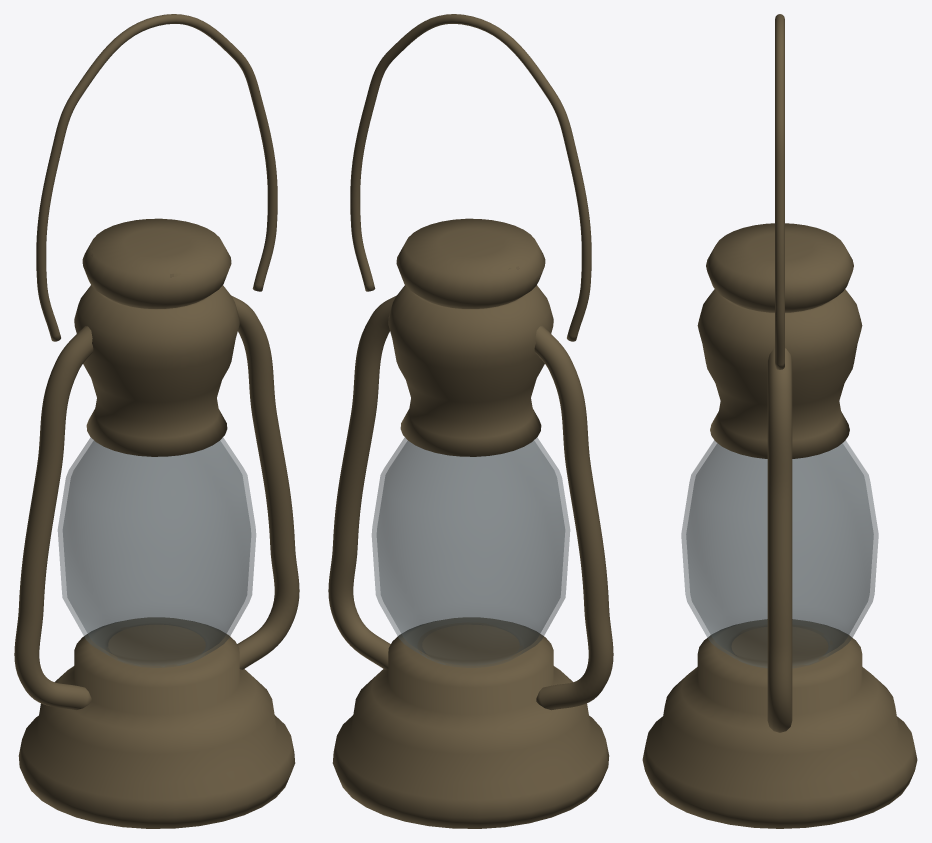
The model's file is result.glb.
3 renders of one model, left to right at view 1: azimuth 30°, elevation 25°; view 2: azimuth 150°, elevation 25°; view 3: azimuth 270°, elevation 25°, orthographic.
Parts seen in each view (by area): view 1: Fuel base, Globe, Chimney, Top cap, Cage -1, Cage 1, handle; view 2: Fuel base, Globe, Chimney, Top cap, Cage -1, Cage 1, handle; view 3: Fuel base, Globe, Chimney, Top cap, Cage 1, handle.
Boxes of the visible parts, x1,y1,x2,y2 form: Fuel base: (18, 617, 295, 828); Globe: (58, 437, 255, 667); Chimney: (74, 285, 239, 456); Top cap: (82, 218, 231, 308); Cage -1: (14, 326, 93, 710); Cage 1: (231, 295, 299, 669); handle: (36, 14, 277, 341); Fuel base: (332, 617, 609, 828); Globe: (372, 437, 569, 667); Chimney: (388, 285, 553, 456); Top cap: (396, 218, 545, 308); Cage -1: (534, 326, 613, 710); Cage 1: (328, 295, 396, 669); handle: (350, 14, 591, 341); Fuel base: (642, 619, 917, 828); Globe: (681, 440, 878, 667); Chimney: (697, 289, 862, 458); Top cap: (706, 223, 853, 312); Cage 1: (767, 348, 792, 732); handle: (775, 14, 784, 369).
Bounding box in the file's own units: 0.3922 × 1.01 × 0.334.
Materials: 7 (7 with a texture image).
